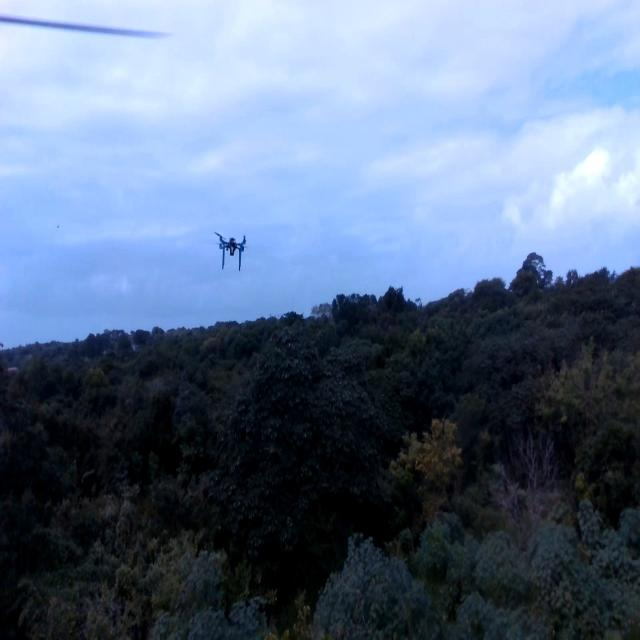-uav-: (211, 215, 252, 280)
